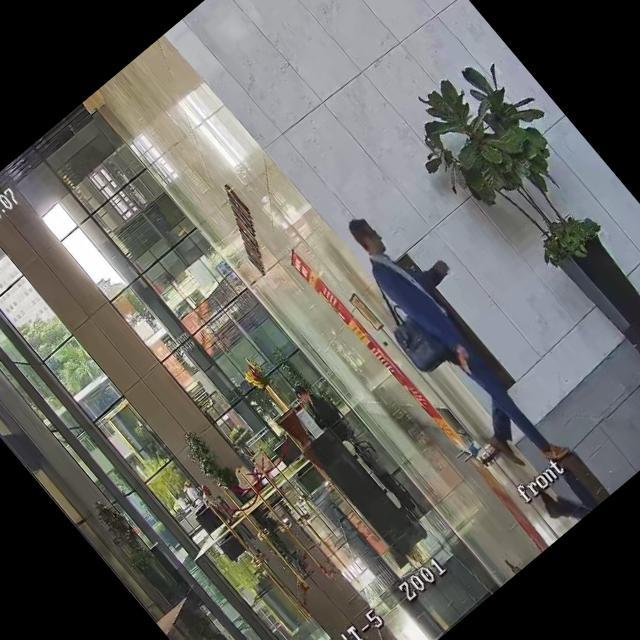person: (320, 190, 591, 490), (288, 372, 361, 451), (194, 482, 239, 530)
